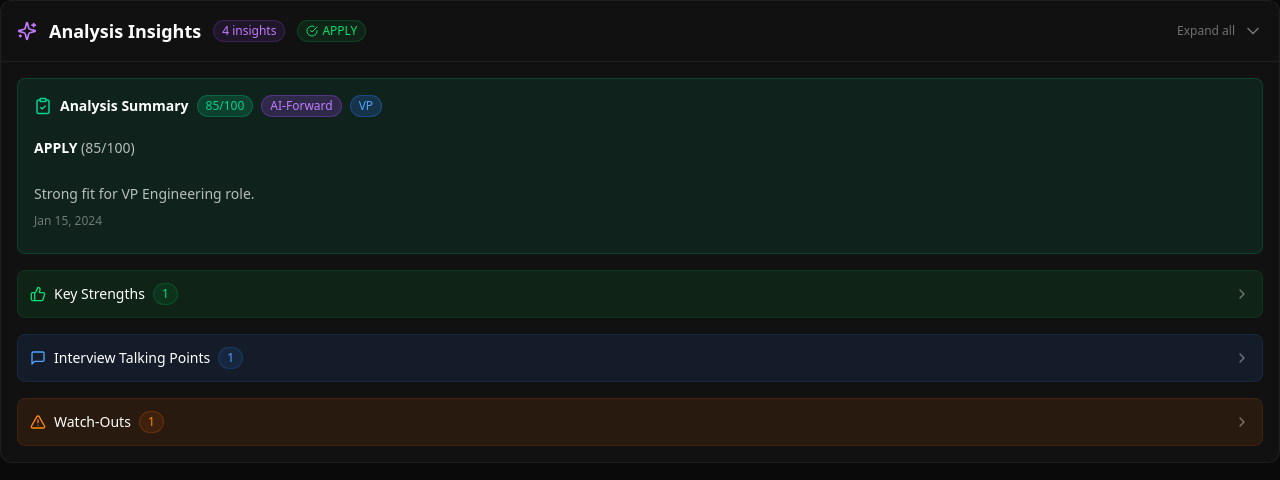
Test: AnalysisInsightsPanel › collapses entire panel when header is clicked
This screenshot has width=1280, height=480.
Note: Find the panel header and click it
Click the text "Analysis Insights" at {"x": 192, "y": 31}, box [17,17,366,45]
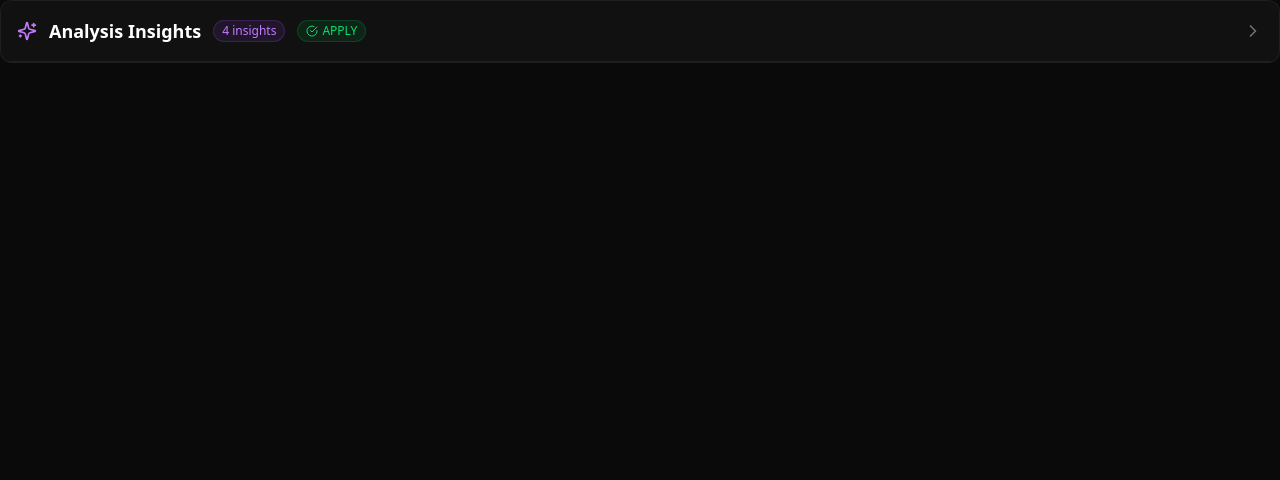
Expected: the button "Key Strengths" is gone
